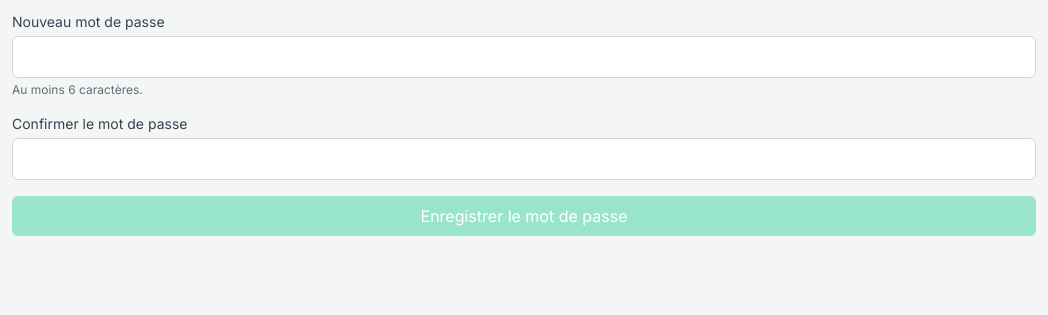
NewPasswordForm › affiche l'erreur de Supabase en français
Type "secret123" into the password field labelled "Nouveau mot de passe" at (524, 57), box [12,36,1036,78]
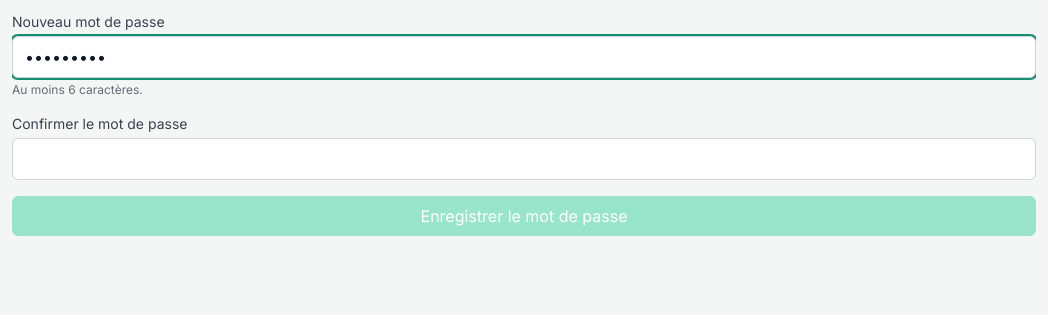
Type "secret123" into the password field labelled "Confirmer le mot de passe" at (524, 159), box [12,138,1036,180]
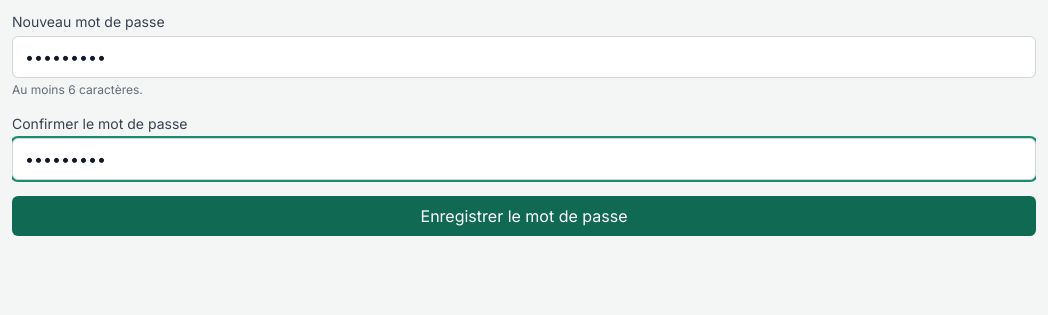
Click the button "Enregistrer le mot de passe" at (524, 216), box [12,196,1036,236]
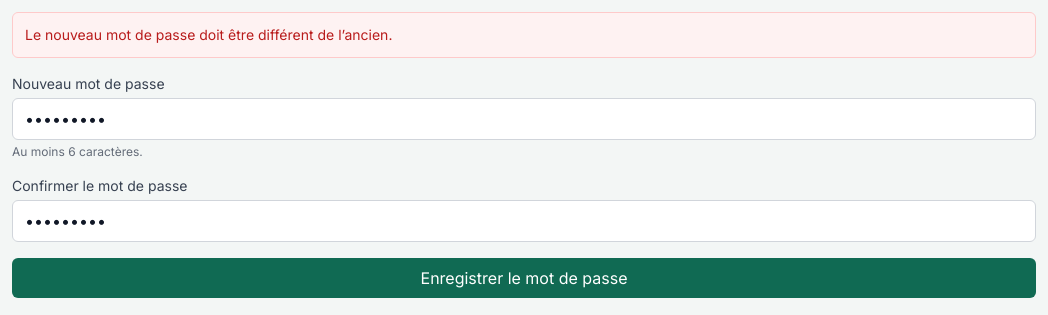
Result: the message shows "doit être différent de l’ancien" at [25,26,392,43]
